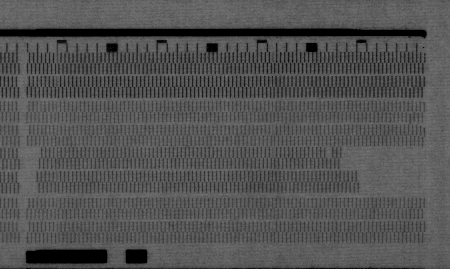Broken hole: (356, 142, 427, 196), (339, 146, 429, 174), (24, 146, 41, 196), (323, 147, 333, 160)
Oblique printing: (405, 110, 417, 125)
